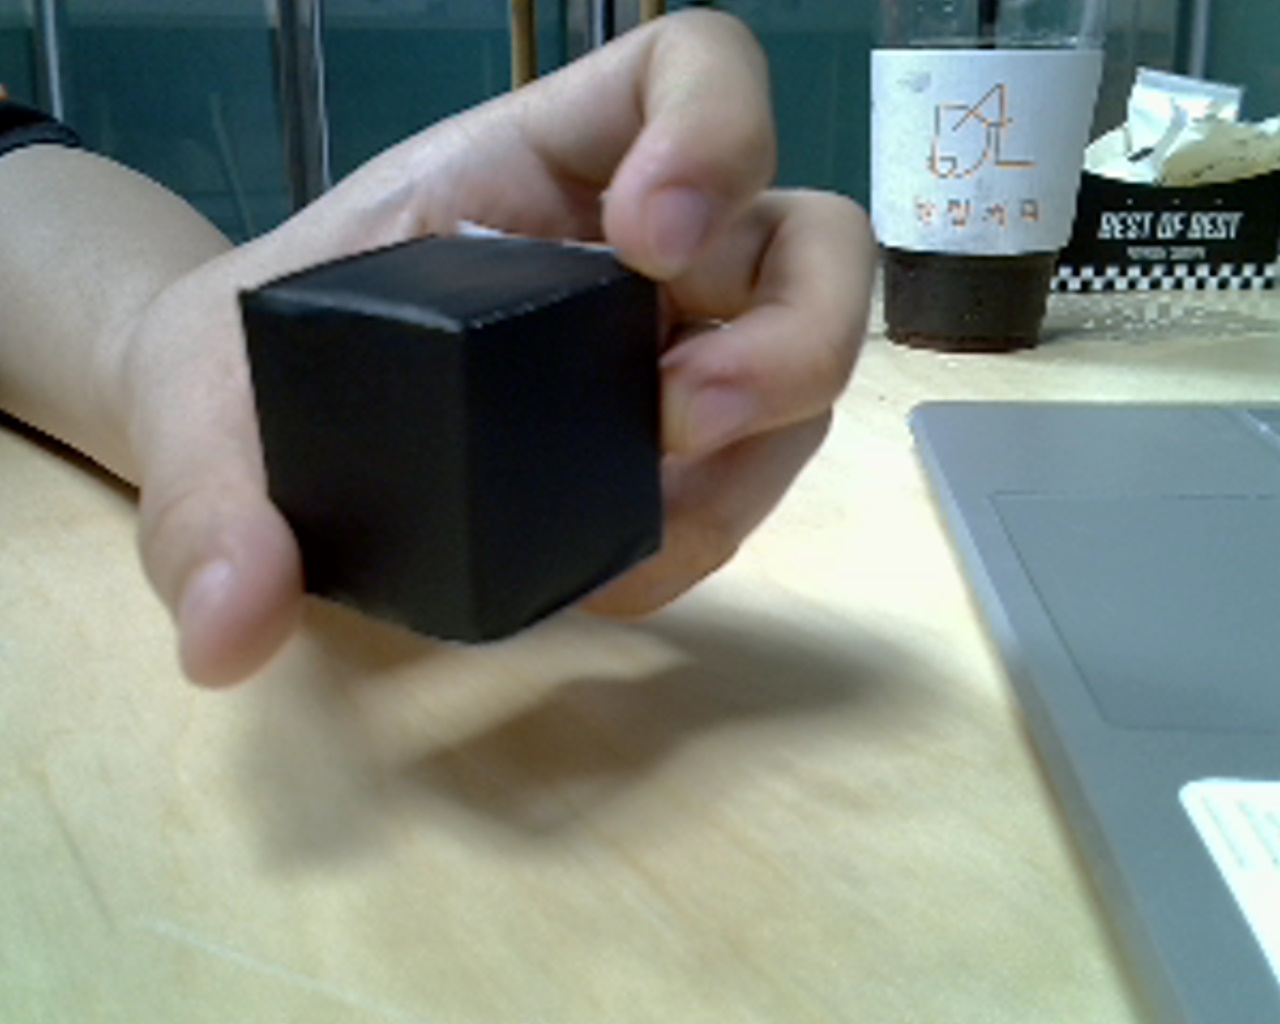blackbox: (218, 172, 747, 695)
